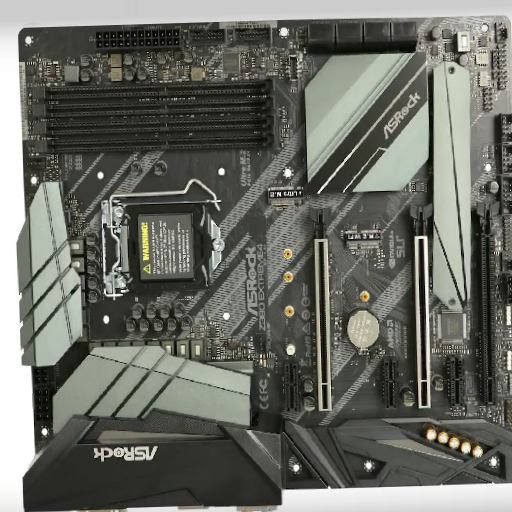CPU: (105, 198, 229, 296)
GPU: (404, 205, 437, 411), (306, 204, 338, 415), (475, 199, 501, 408)
MOTHERBOARD: (14, 16, 512, 494)
RAM: (29, 79, 284, 160)
SSD: (342, 225, 385, 256), (268, 183, 307, 209)
